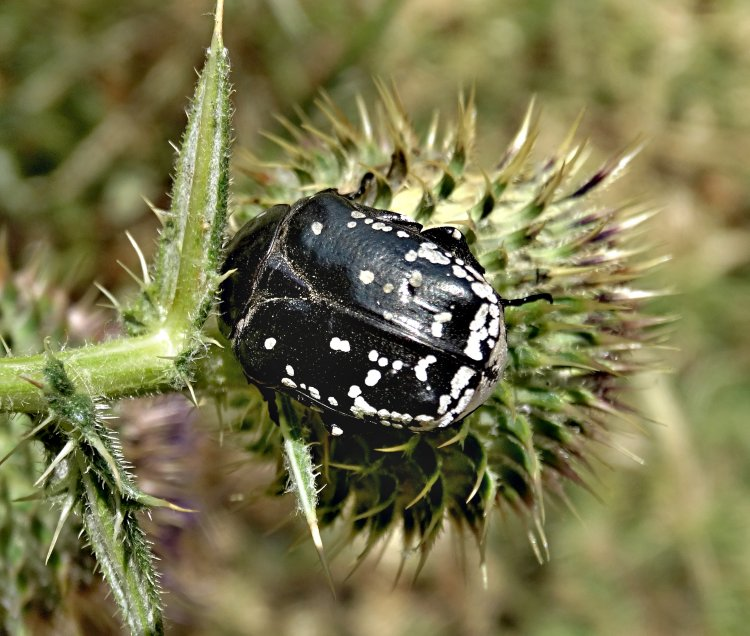Protaetia_funebris_funebris: (212, 163, 529, 465)
